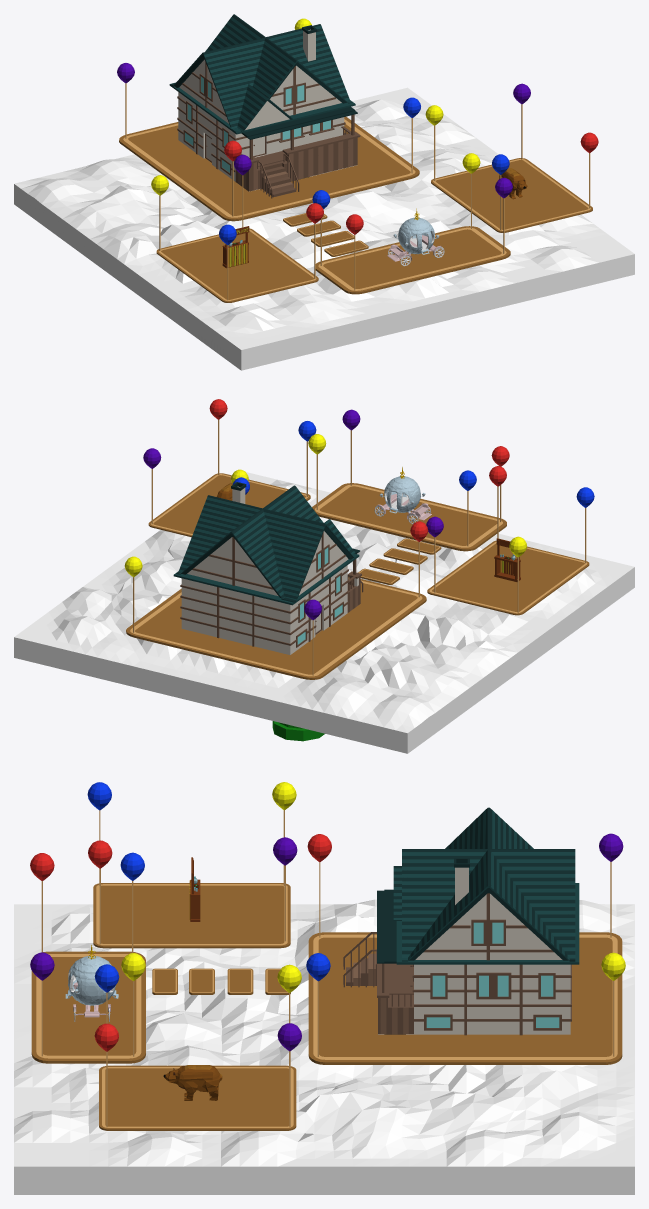
The picture shows the model from 3 angles, top to bottom: view 1: azimuth 30°, elevation 25°; view 2: azimuth 150°, elevation 25°; view 3: azimuth 270°, elevation 25°; orthographic projection. The views are drawn at different scales.
Parts seen in each view (by area): view 1: Cube.013, Cube.793, VEHICLES_FANTASY_CARRIAGE, OBJRANDOM_LEMONADE_STAND; view 2: Cube.013, Cube.793, VEHICLES_FANTASY_CARRIAGE, OBJRANDOM_LEMONADE_STAND, UNDERGROUND_PIPES; view 3: Cube.013, Cube.793, VEHICLES_FANTASY_CARRIAGE, ANIMAL_OSO, OBJRANDOM_LEMONADE_STAND.
Boxes of the visible parts, x1,y1,x2,y2 form: Cube.013: [14, 18, 634, 370]; Cube.793: [169, 14, 360, 198]; VEHICLES_FANTASY_CARRIAGE: [387, 208, 444, 266]; OBJRANDOM_LEMONADE_STAND: [222, 226, 249, 268]; Cube.013: [14, 399, 634, 753]; Cube.793: [173, 482, 363, 654]; VEHICLES_FANTASY_CARRIAGE: [374, 467, 431, 524]; OBJRANDOM_LEMONADE_STAND: [494, 538, 520, 581]; UNDERGROUND_PIPES: [272, 721, 324, 741]; Cube.013: [14, 782, 634, 1194]; Cube.793: [343, 807, 579, 1035]; VEHICLES_FANTASY_CARRIAGE: [65, 945, 118, 1021]; ANIMAL_OSO: [163, 1065, 222, 1100]; OBJRANDOM_LEMONADE_STAND: [189, 857, 200, 921].
Bounding box in the file's own units: 4000 × 2271 × 4000.
Materials: 28 (2 with a texture image).
